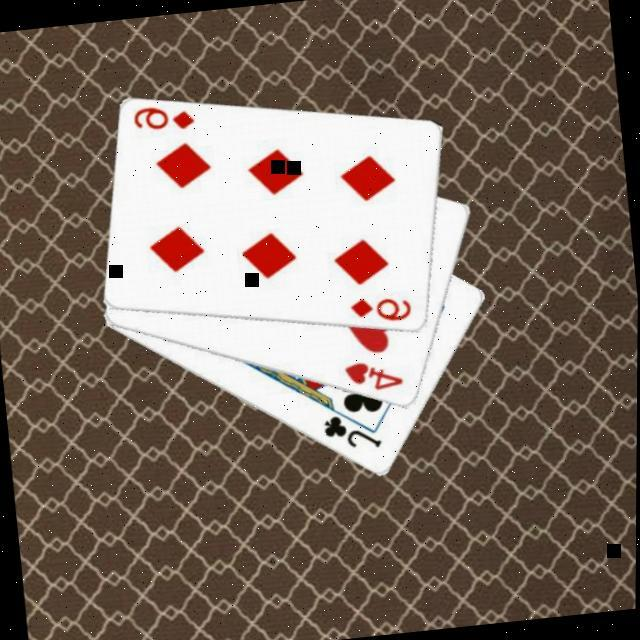4H: (339, 354, 406, 396)
6D: (345, 289, 414, 328), (127, 98, 196, 137)
JC: (317, 407, 383, 456)
